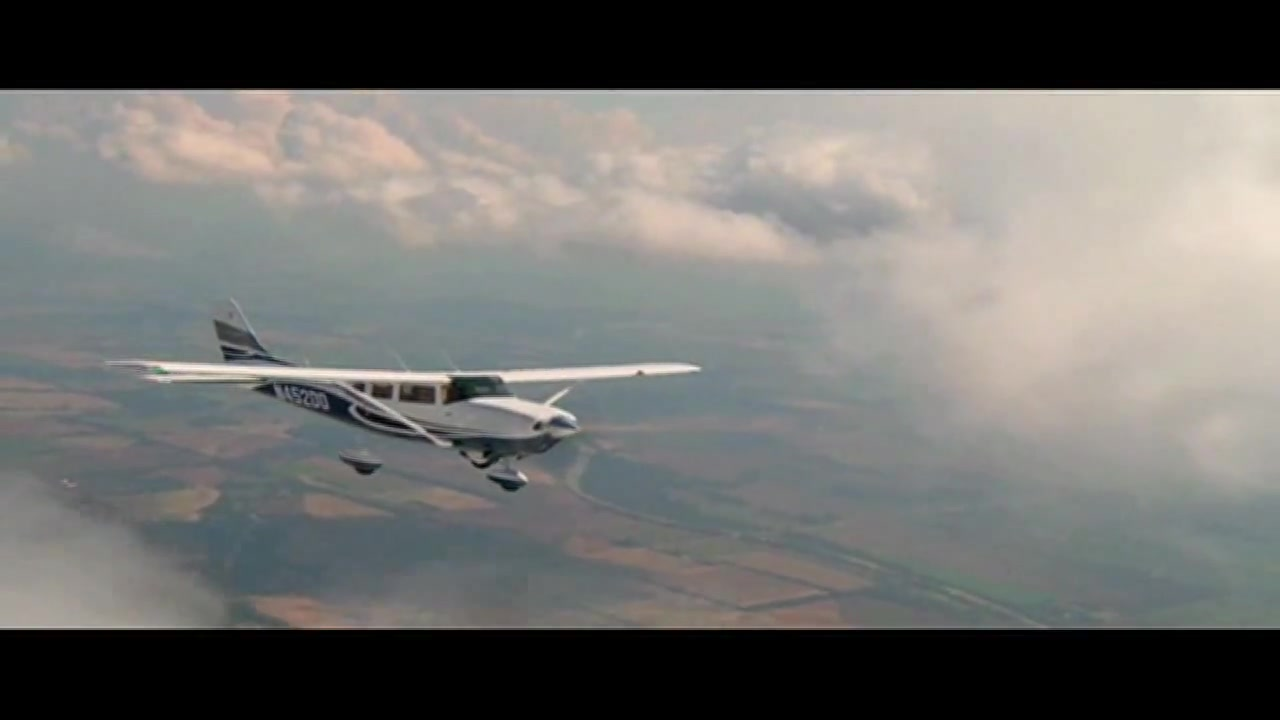aeroplane: (102, 301, 701, 493)
